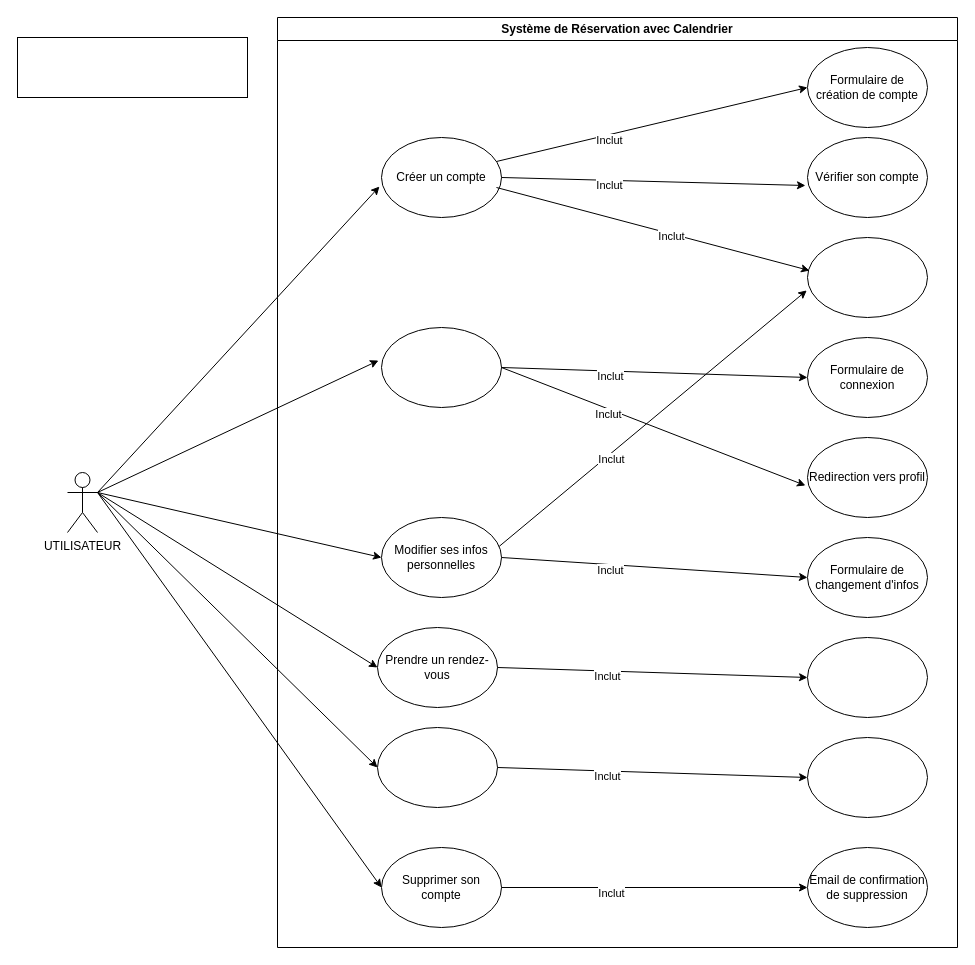
Image size: 975x965. Some labels were removed from this diagram. Each missing label, with the centre of its shape:
Annuler un rendez-vous: [437,767]
Diagramme de cas d'utilisation (Use Case): [132,67]
Libérer le créneau: [867,777]
Se connecter: [441,367]
Vérifier disponibilité du créneau: [867,677]
Vérifier unicité de l'email: [867,277]
